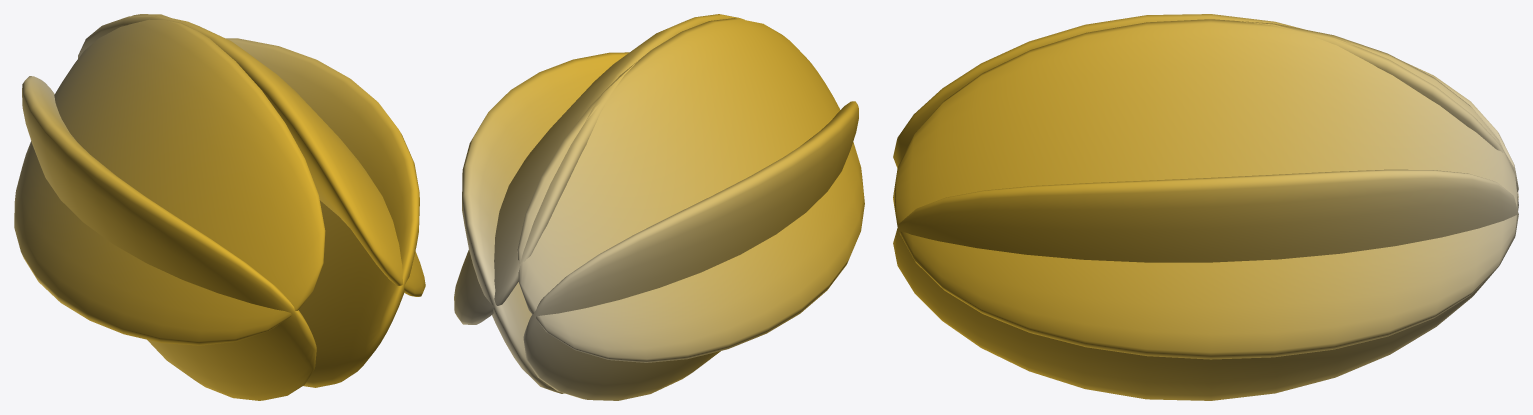
Rendered from seedpod-starfighter-3-spinner.obj.
3 views of the same model, side by side, from view 1: azimuth 30°, elevation 25°; view 2: azimuth 150°, elevation 25°; view 3: azimuth 270°, elevation 25° (orthographic). The views are drawn at different scales.
Parts seen in each view (by area): view 1: spinner; view 2: spinner; view 3: spinner.
Boxes of the visible parts, x1=… form: spinner: x1=14, y1=14, x2=425, y2=400; spinner: x1=454, y1=14, x2=864, y2=400; spinner: x1=893, y1=14, x2=1518, y2=400.
Size of the model in its own units: 74.24 by 75.12 by 116.
